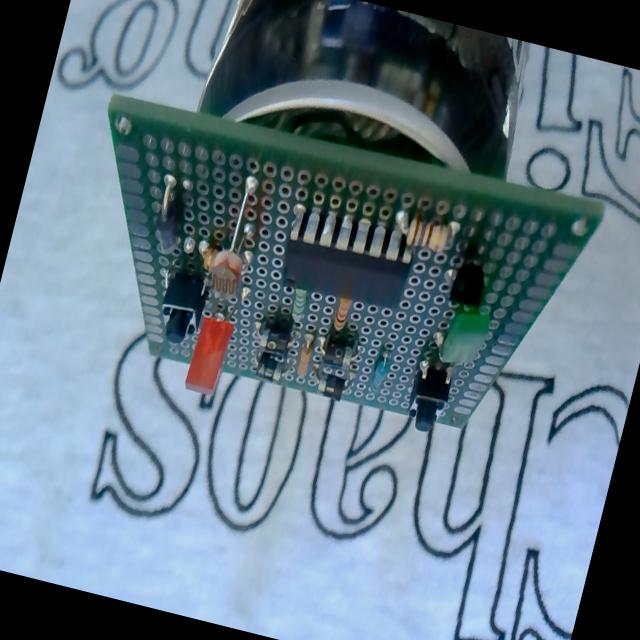IC: (276, 208, 418, 315)
cds: (205, 175, 265, 300)
diode: (146, 172, 195, 256), (257, 316, 294, 354), (320, 336, 354, 370), (254, 352, 286, 384), (317, 372, 345, 402)
led: (183, 282, 244, 394), (437, 305, 492, 372)
resistor: (402, 214, 452, 256), (368, 350, 392, 392), (294, 333, 316, 378), (331, 297, 352, 332), (289, 287, 310, 320)
switch: (154, 270, 210, 348), (402, 362, 454, 434)
transistor: (447, 257, 490, 312)
